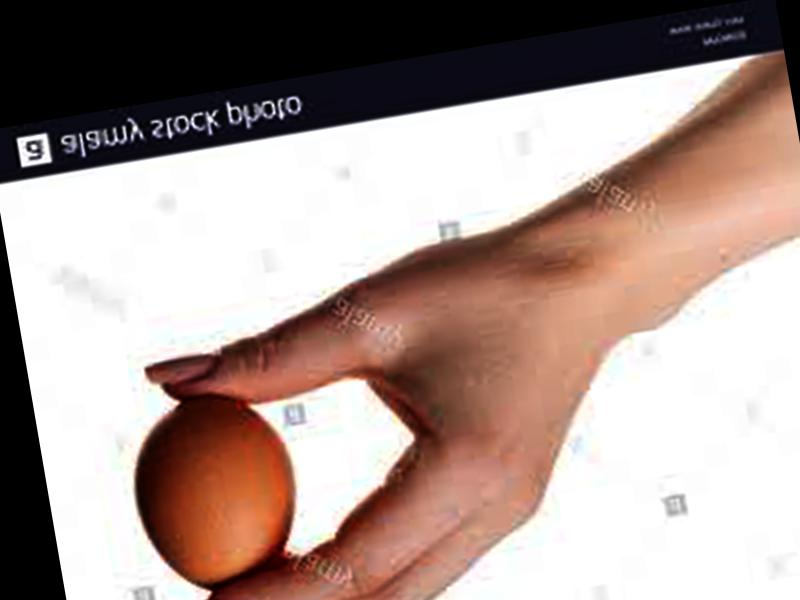Eggs: (120, 383, 316, 599)
